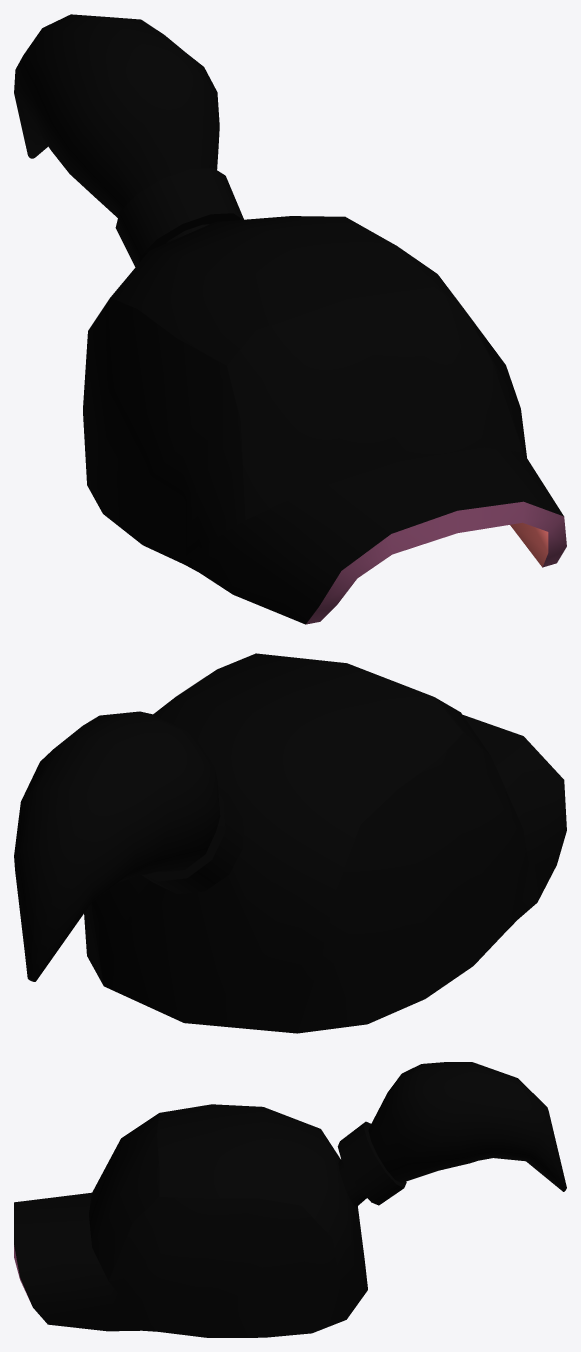
Rendered from Head_9.fbx.
The picture shows the model from 3 angles, top to bottom: view 1: azimuth 30°, elevation 25°; view 2: azimuth 150°, elevation 25°; view 3: azimuth 270°, elevation 25°; orthographic projection. The views are drawn at different scales.
Parts seen in each view (by area): view 1: s_enemies.002; view 2: s_enemies.002; view 3: s_enemies.002.
Part boxes in pixels (x1=…): s_enemies.002: x1=14, y1=14, x2=566, y2=624; s_enemies.002: x1=14, y1=653, x2=566, y2=1033; s_enemies.002: x1=14, y1=1062, x2=566, y2=1337.
Size of the model in its own units: 42.48 by 42.17 by 94.98.
